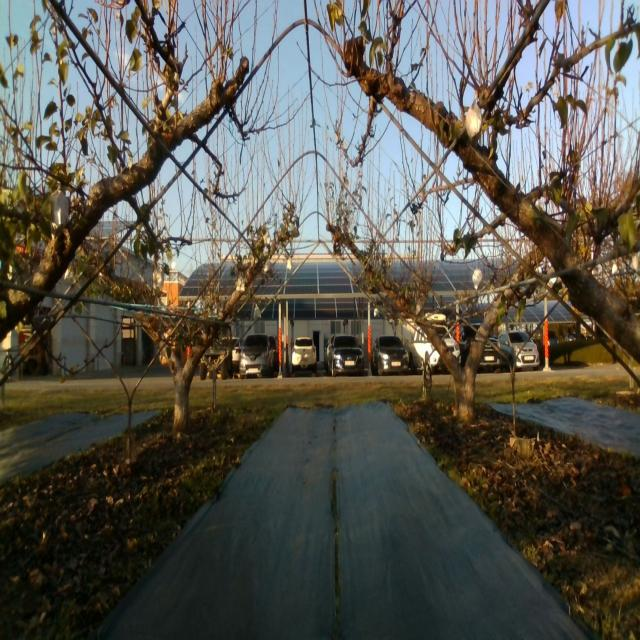pearbags: (50, 190, 69, 227), (465, 103, 482, 143), (153, 266, 164, 289), (472, 269, 483, 291)
